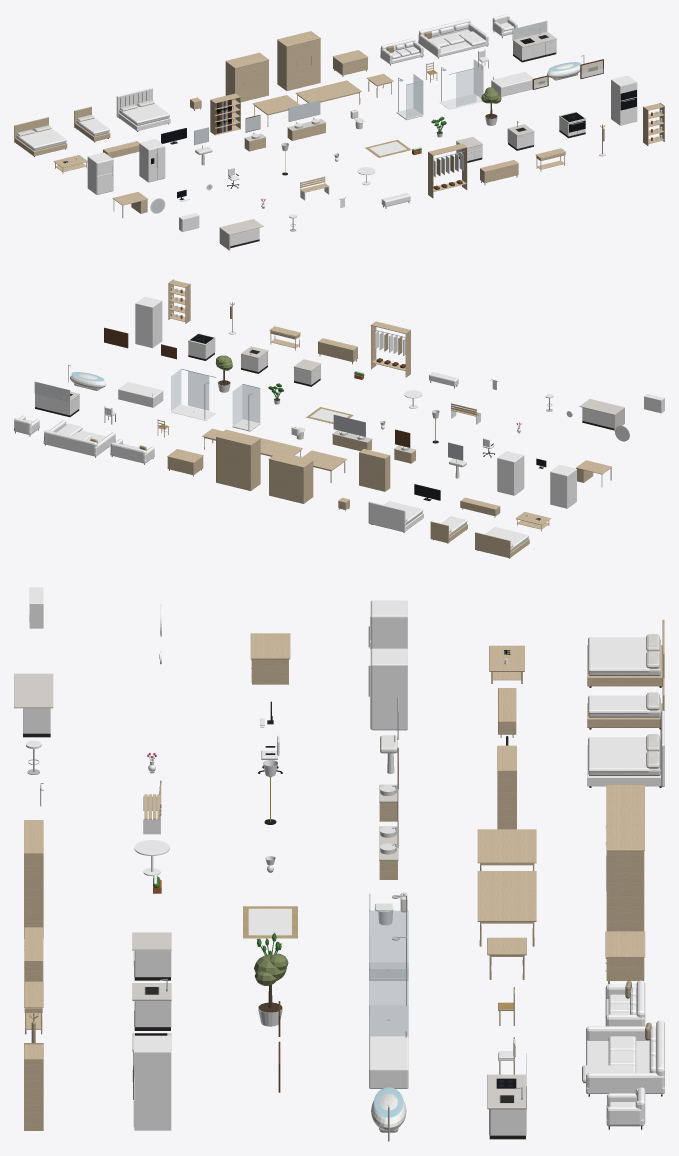
File: muebles.glb
3 renders of one model, top to bottom at view 1: azimuth 30°, elevation 25°; view 2: azimuth 150°, elevation 25°; view 3: azimuth 270°, elevation 25°, orthographic. The views are drawn at different scales.
Parts seen in each view (by area): view 1: armarioEmpotrado_cuerpo, sofaChaise_cuerpo, armario_cuerpo, camaTapizada_cuerpo, cocina_cuerpo, camaDoble_cuerpo, vestidor_cuerpo, columnaHorno_cuerpo, duchaObra_cuerpo, estanteria_cuerpo, lavaboDoble_cuerpo, frigoAmericano_cuerpo (+26 smaller); view 2: armarioEmpotrado_cuerpo, armario_cuerpo, duchaObra_cuerpo, sofaChaise_cuerpo, vestidor_cuerpo, columnaHorno_cuerpo, camaTapizada_cuerpo, ducha_cuerpo, camaDoble_cuerpo, cocina_cuerpo, estanteria_cuerpo, frigoAmericano_cuerpo (+20 smaller); view 3: sofaChaise_cuerpo, armarioEmpotrado_cuerpo, camaTapizada_cuerpo, camaDoble_cuerpo, columnaHorno_cuerpo, mesaComedorGrande_cuerpo, frigoAmericano_cuerpo, duchaObra_cuerpo, ducha_cuerpo, cocina_cuerpo, camaIndividual_cuerpo, isla_cuerpo (+23 smaller).
Part boxes in pixels (box(x1,y1,x2,y2)): armarioEmpotrado_cuerpo: box(277, 31, 320, 90); sofaChaise_cuerpo: box(418, 19, 488, 58); armario_cuerpo: box(225, 52, 268, 102); camaTapizada_cuerpo: box(116, 87, 170, 131); cocina_cuerpo: box(512, 21, 556, 62); camaDoble_cuerpo: box(14, 117, 67, 156); vestidor_cuerpo: box(428, 143, 467, 198); columnaHorno_cuerpo: box(611, 75, 637, 125); duchaObra_cuerpo: box(439, 59, 483, 109); estanteria_cuerpo: box(210, 93, 240, 135); lavaboDoble_cuerpo: box(287, 100, 326, 140); frigoAmericano_cuerpo: box(139, 139, 165, 182); armarioEmpotrado_cuerpo: box(216, 429, 260, 490); armario_cuerpo: box(268, 451, 313, 503); duchaObra_cuerpo: box(171, 368, 215, 420); sofaChaise_cuerpo: box(43, 420, 115, 457); vestidor_cuerpo: box(370, 321, 410, 377); columnaHorno_cuerpo: box(135, 296, 162, 348); camaTapizada_cuerpo: box(368, 501, 423, 532); ducha_cuerpo: box(232, 384, 260, 431); camaDoble_cuerpo: box(475, 527, 529, 558); cocina_cuerpo: box(34, 381, 79, 417); estanteria_cuerpo: box(359, 448, 390, 491); frigoAmericano_cuerpo: box(497, 451, 524, 495); sofaChaise_cuerpo: box(582, 1020, 664, 1096); armarioEmpotrado_cuerpo: box(606, 816, 644, 931); camaTapizada_cuerpo: box(587, 710, 664, 787); camaDoble_cuerpo: box(587, 619, 664, 687); columnaHorno_cuerpo: box(132, 1035, 171, 1130); mesaComedorGrande_cuerpo: box(477, 871, 536, 946); frigoAmericano_cuerpo: box(368, 648, 407, 730); duchaObra_cuerpo: box(369, 935, 408, 1036); ducha_cuerpo: box(369, 893, 408, 980); cocina_cuerpo: box(487, 1053, 526, 1139); camaIndividual_cuerpo: box(587, 678, 664, 729); isla_cuerpo: box(14, 673, 53, 737).
Size of the model in its own units: 29.15 by 2.5 by 16.5.
Materials: 30 (9 with a texture image).
